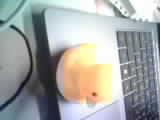duck: (37, 22, 120, 107)
